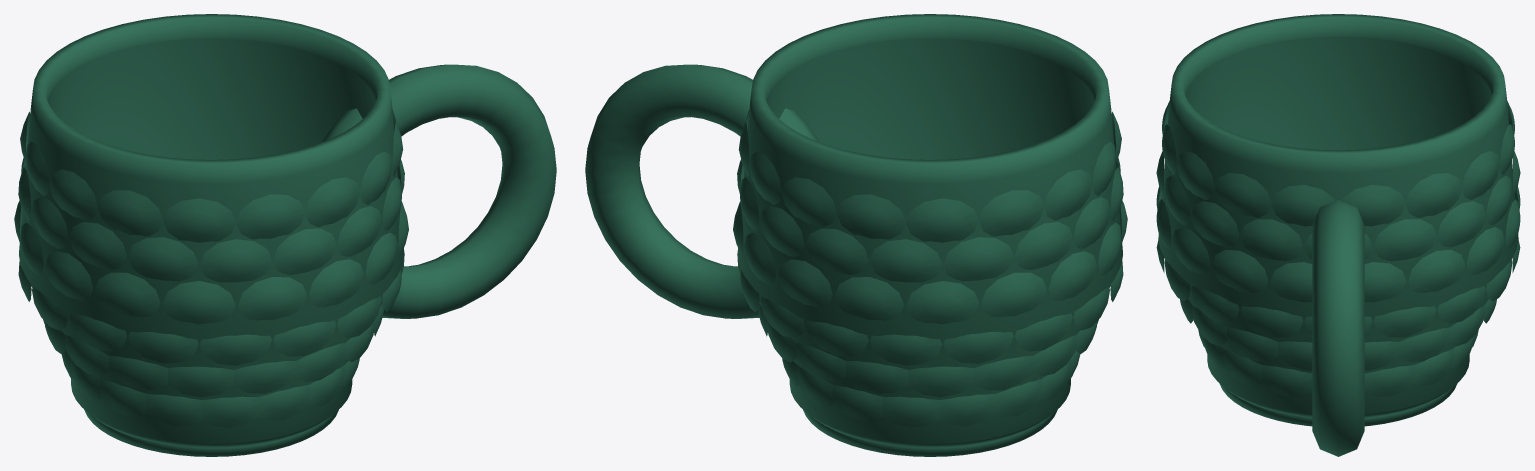
The model's file is mug-scale_green.glb.
3 renders of one model, left to right at view 1: azimuth 30°, elevation 25°; view 2: azimuth 150°, elevation 25°; view 3: azimuth 270°, elevation 25°, orthographic. The views are drawn at different scales.
Visible parts, largest first — view 1: CI_070_mug_scale_green_sculpted_scales, CI_070_mug_scale_green_ceramic_body, CI_070_mug_scale_green_inner_glaze, CI_070_mug_scale_green_handle, CI_070_mug_scale_green_ceramic_foot; view 2: CI_070_mug_scale_green_sculpted_scales, CI_070_mug_scale_green_ceramic_body, CI_070_mug_scale_green_inner_glaze, CI_070_mug_scale_green_handle, CI_070_mug_scale_green_ceramic_foot; view 3: CI_070_mug_scale_green_sculpted_scales, CI_070_mug_scale_green_ceramic_body, CI_070_mug_scale_green_inner_glaze, CI_070_mug_scale_green_handle, CI_070_mug_scale_green_ceramic_foot.
Part boxes in pixels (x1,y1,x2,y2): CI_070_mug_scale_green_sculpted_scales: (14, 110, 408, 427); CI_070_mug_scale_green_ceramic_body: (19, 14, 404, 447); CI_070_mug_scale_green_inner_glaze: (48, 38, 375, 159); CI_070_mug_scale_green_handle: (322, 64, 556, 318); CI_070_mug_scale_green_ceramic_foot: (84, 409, 338, 456); CI_070_mug_scale_green_sculpted_scales: (733, 110, 1127, 427); CI_070_mug_scale_green_ceramic_body: (737, 14, 1122, 447); CI_070_mug_scale_green_inner_glaze: (766, 38, 1093, 159); CI_070_mug_scale_green_handle: (585, 64, 819, 318); CI_070_mug_scale_green_ceramic_foot: (803, 409, 1057, 456); CI_070_mug_scale_green_sculpted_scales: (1156, 101, 1520, 396); CI_070_mug_scale_green_ceramic_body: (1158, 14, 1518, 417); CI_070_mug_scale_green_inner_glaze: (1185, 36, 1491, 150); CI_070_mug_scale_green_handle: (1312, 200, 1364, 456); CI_070_mug_scale_green_ceramic_foot: (1219, 383, 1457, 426).
Bounding box in the file's own units: 0.1469 × 0.086 × 0.097.
